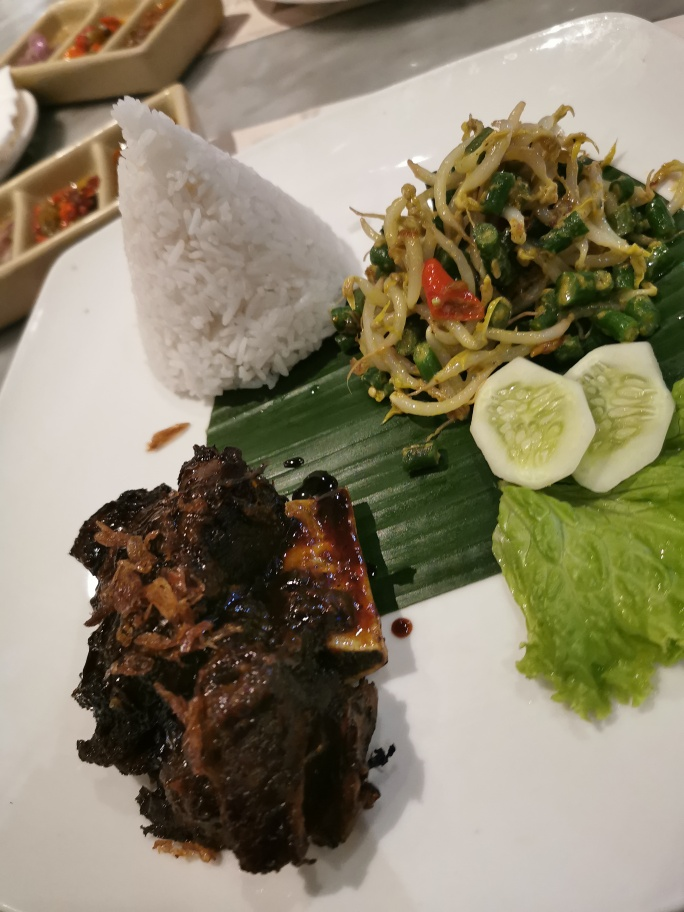iga bakar: (84, 454, 384, 885)
nasi putih: (98, 90, 361, 404)
